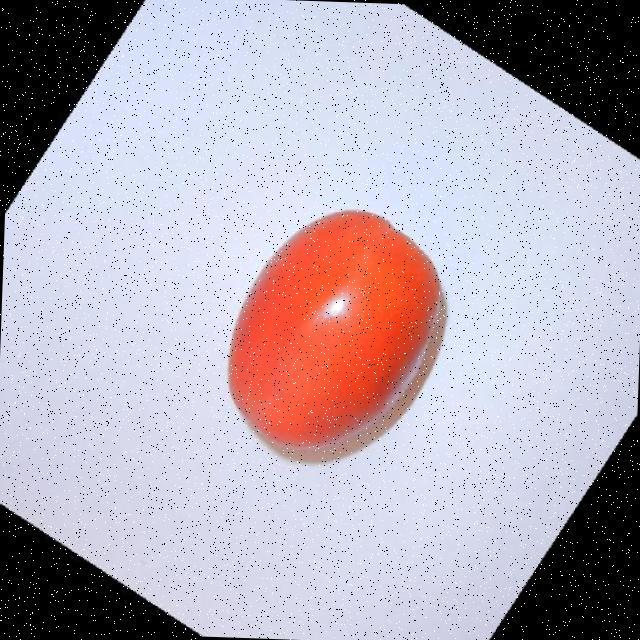tomato: (215, 196, 471, 497)
